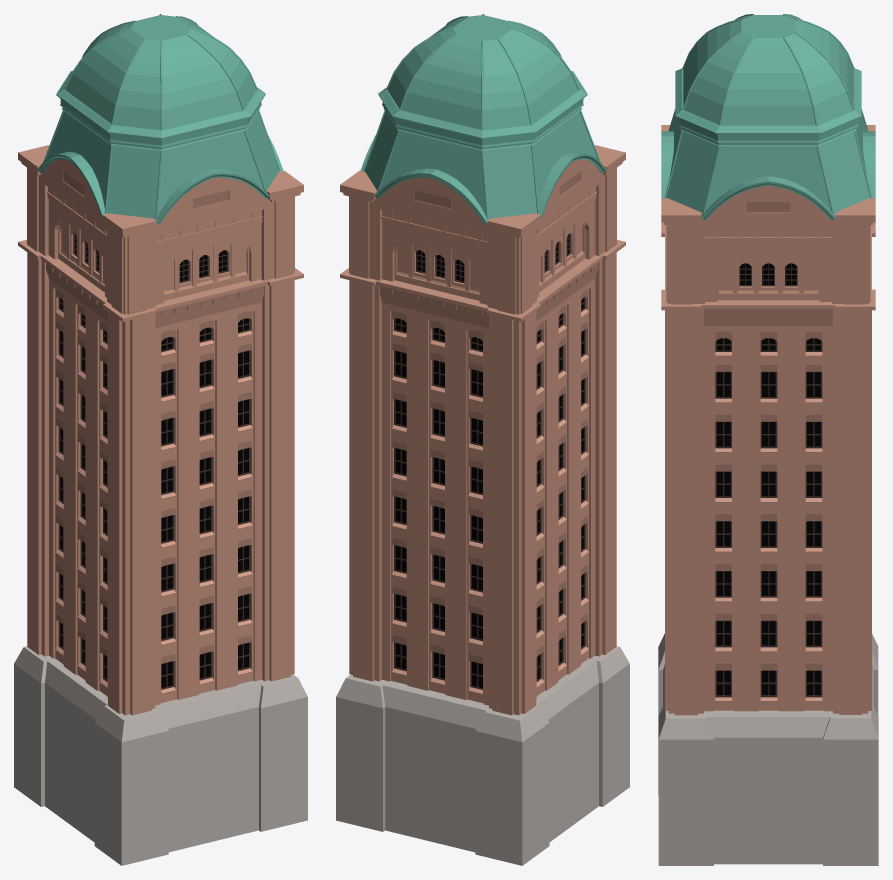
The model's file is tower3_2.fbx.
3 views of the same model, side by side, from view 1: azimuth 30°, elevation 25°; view 2: azimuth 150°, elevation 25°; view 3: azimuth 270°, elevation 25° (orthographic). The views are drawn at different scales.
Parts seen in each view (by area): view 1: Unity_Export_Mesh.003; view 2: Unity_Export_Mesh.003; view 3: Unity_Export_Mesh.003.
Boxes of the visible parts, x1=… form: Unity_Export_Mesh.003: x1=14, y1=14, x2=307, y2=865; Unity_Export_Mesh.003: x1=336, y1=14, x2=629, y2=865; Unity_Export_Mesh.003: x1=658, y1=14, x2=878, y2=865.
Bounding box in the file's own units: 253 × 1006 × 253.
